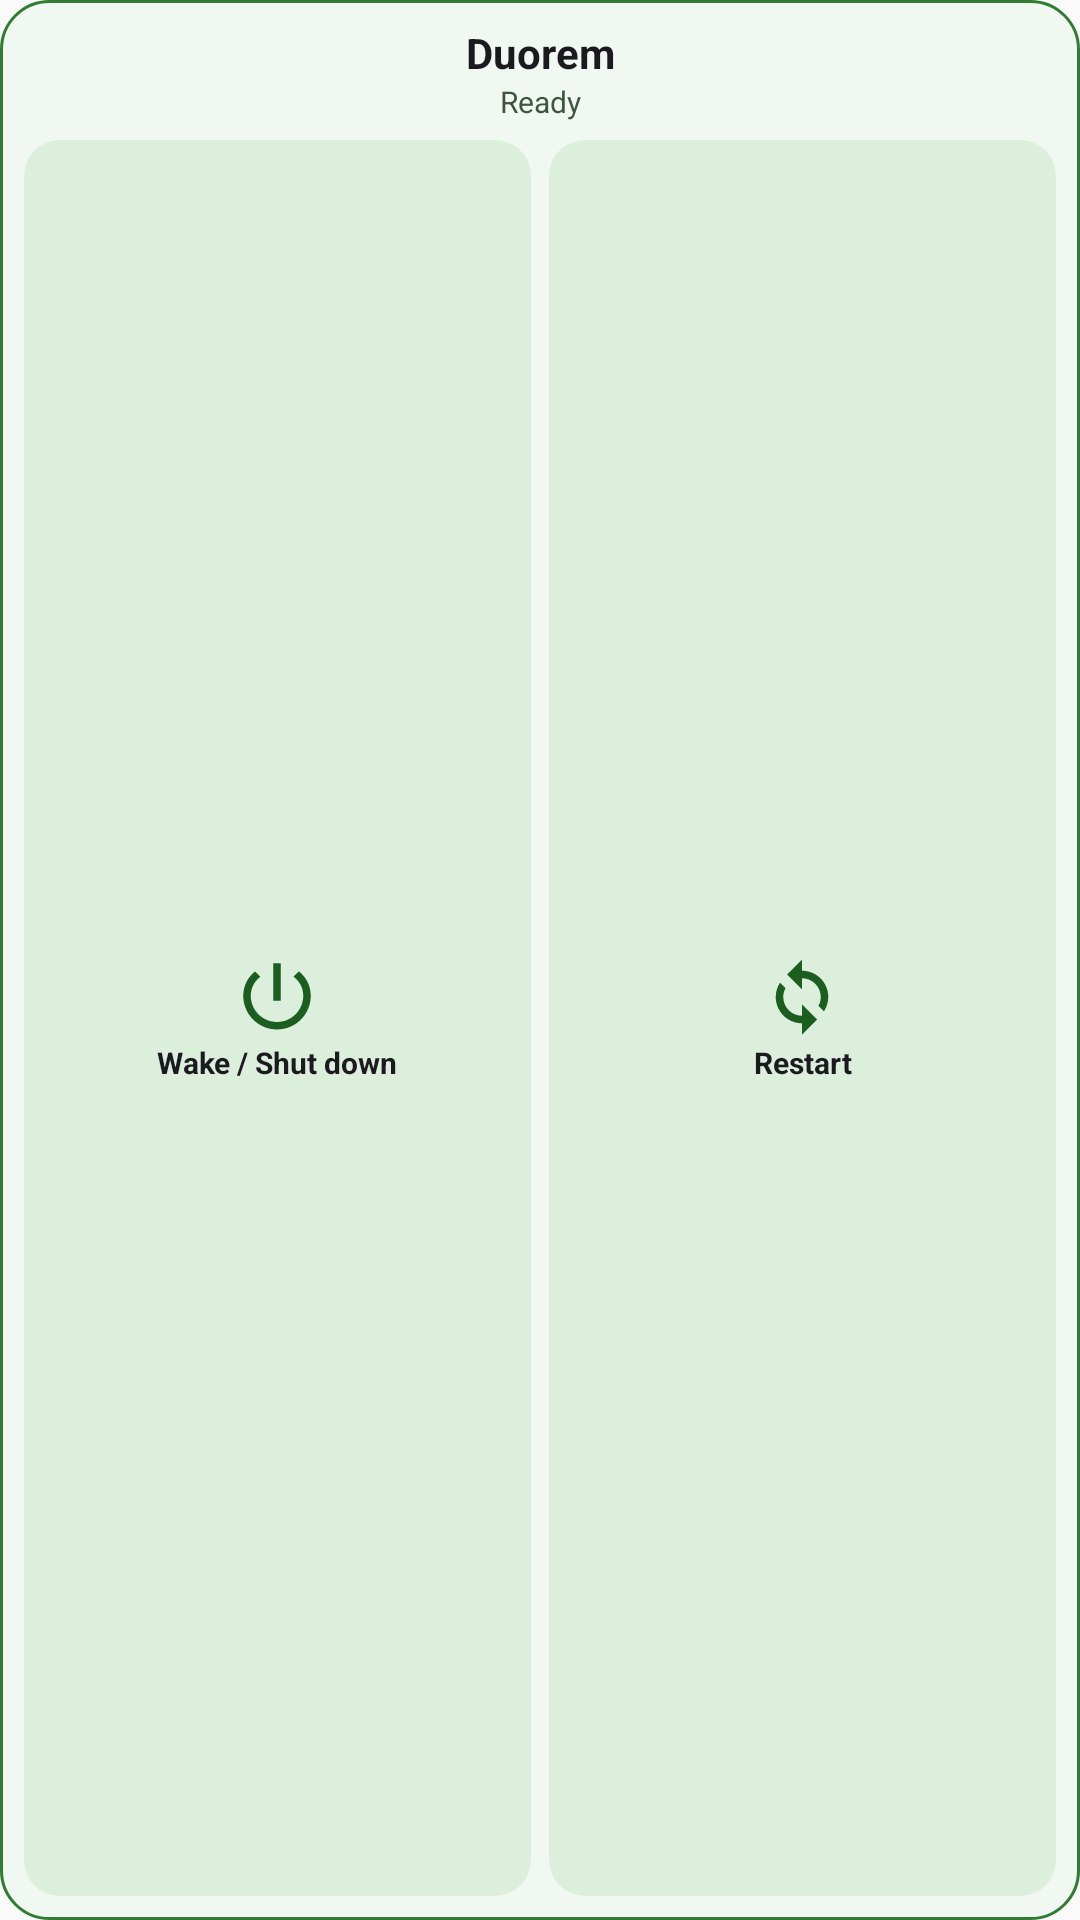

Screen size 1080×1920. Icon name, then its box in pixels as (x1,y1,x2,y2):
widget power: (243,963,311,1030)
